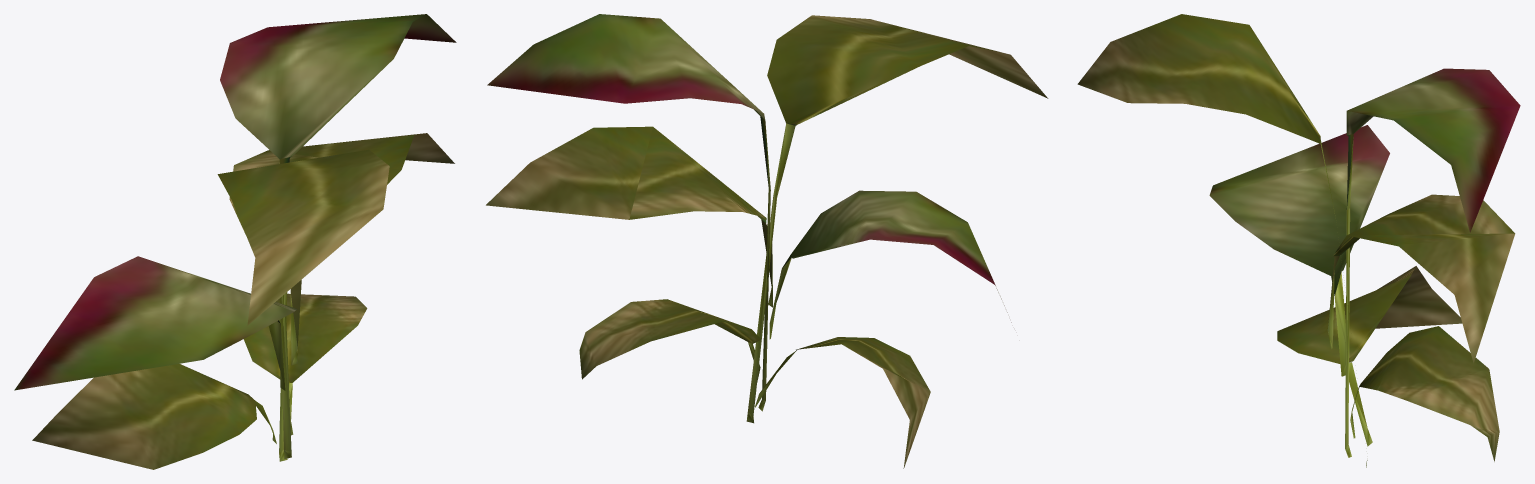
File: plant.obj
The picture shows the model from 3 angles, left to right: view 1: azimuth 30°, elevation 25°; view 2: azimuth 150°, elevation 25°; view 3: azimuth 270°, elevation 25°; orthographic projection. The views are drawn at different scales.
Parts seen in each view (by area): view 1: Group; view 2: Group; view 3: Group.
Boxes of the visible parts, x1,y1,x2,y2 form: Group: (14,14,456,469); Group: (486,14,1048,468); Group: (1077,14,1520,467).
Size of the model in its own units: 99.16 by 75.3 by 71.74.
1 material, 1 textured.
